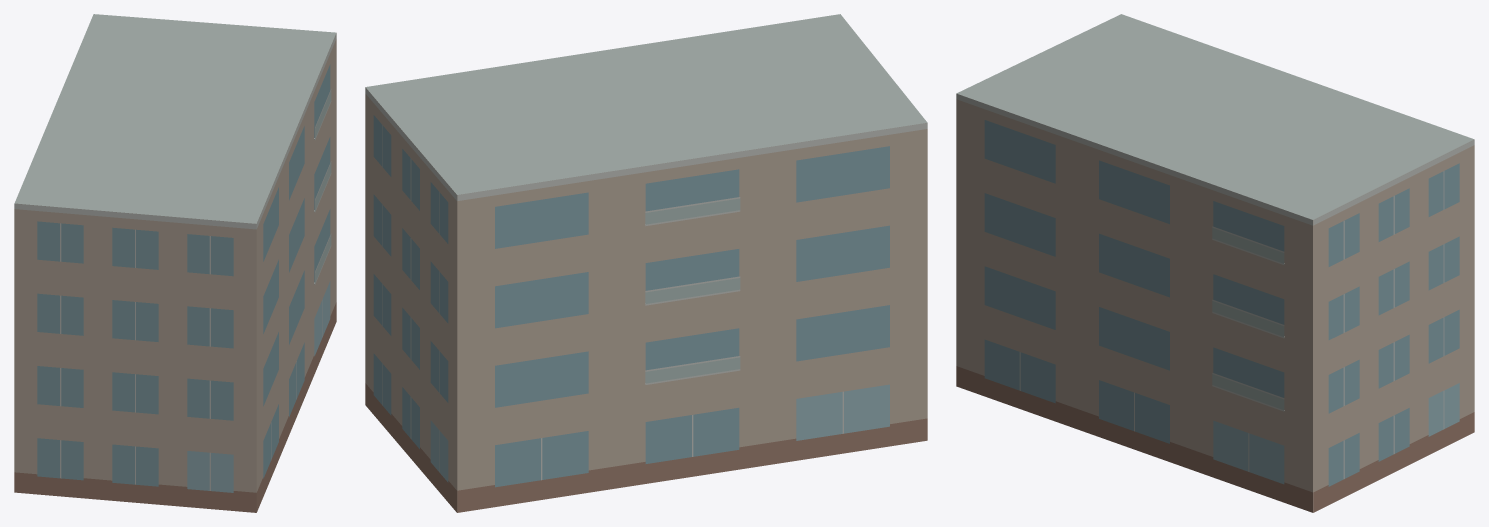
Rendered from survey-upis-33023415.glb.
3 renders of one model, left to right at view 1: azimuth 30°, elevation 25°; view 2: azimuth 150°, elevation 25°; view 3: azimuth 270°, elevation 25°, orthographic. The views are drawn at different scales.
Parts seen in each view (by area): view 1: survey-upis-33023415.tmp; view 2: survey-upis-33023415.tmp; view 3: survey-upis-33023415.tmp.
Boxes of the visible parts, x1,y1,x2,y2 form: survey-upis-33023415.tmp: [14, 14, 336, 512]; survey-upis-33023415.tmp: [365, 14, 927, 512]; survey-upis-33023415.tmp: [956, 14, 1474, 512].
Bounding box in the file's own units: 19.02 × 12.6 × 20.22.
